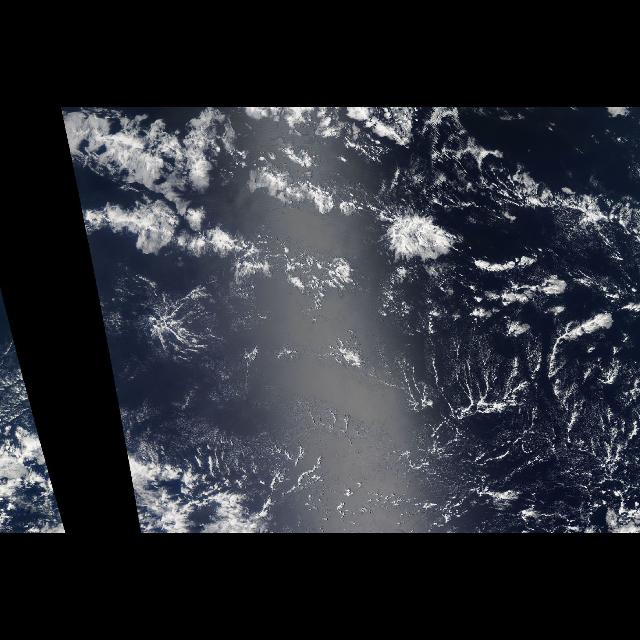Sugar: (134, 306, 636, 506)
